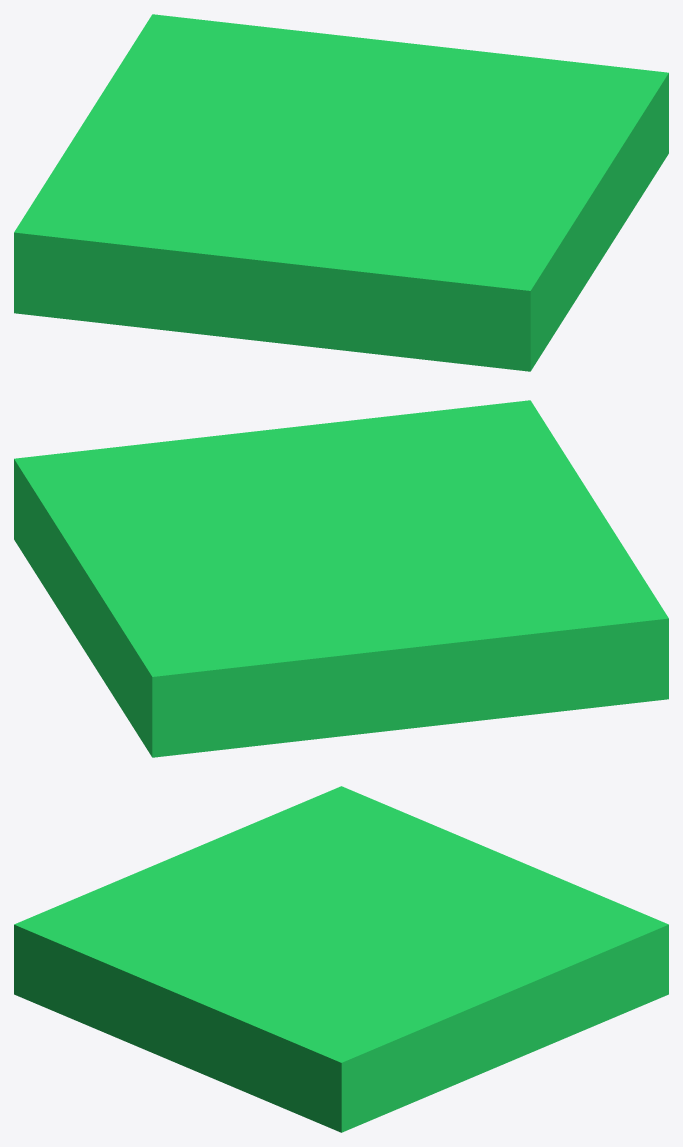
Rendered from square.glb.
3 views of the same model, one above another, from view 1: azimuth 30°, elevation 25°; view 2: azimuth 150°, elevation 25°; view 3: azimuth 270°, elevation 25° (orthographic). The views are drawn at different scales.
Visible parts, largest first — view 1: Circle; view 2: Circle; view 3: Circle.
Part boxes in pixels (x1,y1,x2,y2): Circle: (14, 14, 668, 371); Circle: (14, 400, 668, 757); Circle: (14, 786, 668, 1132).
Size of the model in its own units: 2 by 0.2356 by 2.
